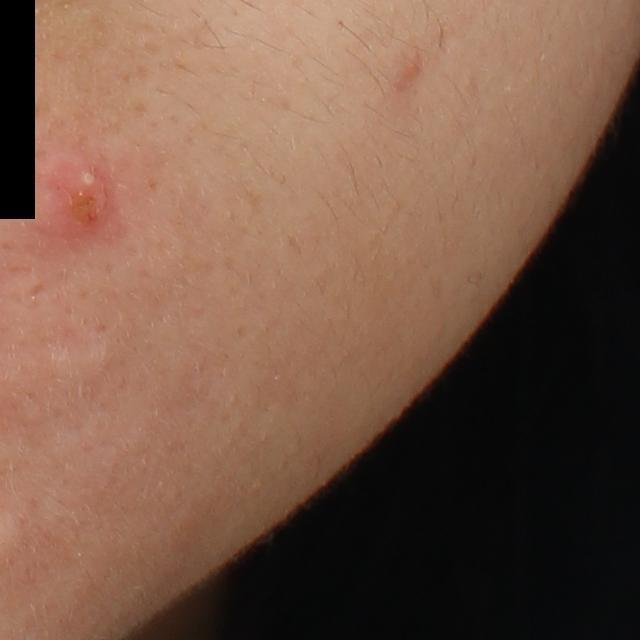hypertrophic_scar: (21, 334, 115, 390)
